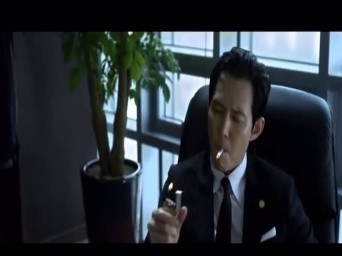smoke: (213, 148, 222, 159)
